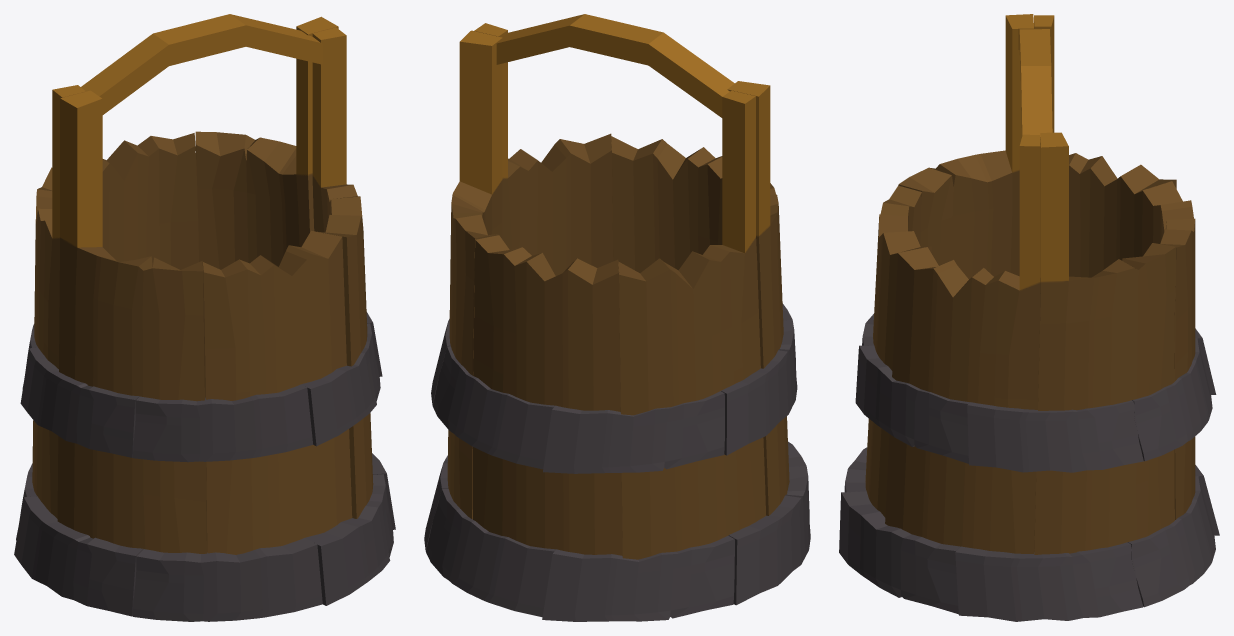
Rendered from ember.fbx.
The picture shows the model from 3 angles, left to right: view 1: azimuth 30°, elevation 25°; view 2: azimuth 150°, elevation 25°; view 3: azimuth 270°, elevation 25°; orthographic projection. The views are drawn at different scales.
Parts seen in each view (by area): view 1: ember; view 2: ember; view 3: ember.
Part boxes in pixels (x1,y1,x2,y2): ember: (14,14,395,621); ember: (424,14,810,621); ember: (839,14,1219,621).
Bounding box in the file's own units: 1578 × 2324 × 1611.
